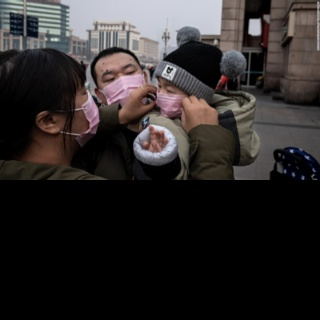with_mask: (60, 85, 100, 148), (97, 62, 146, 112), (156, 78, 188, 118)
